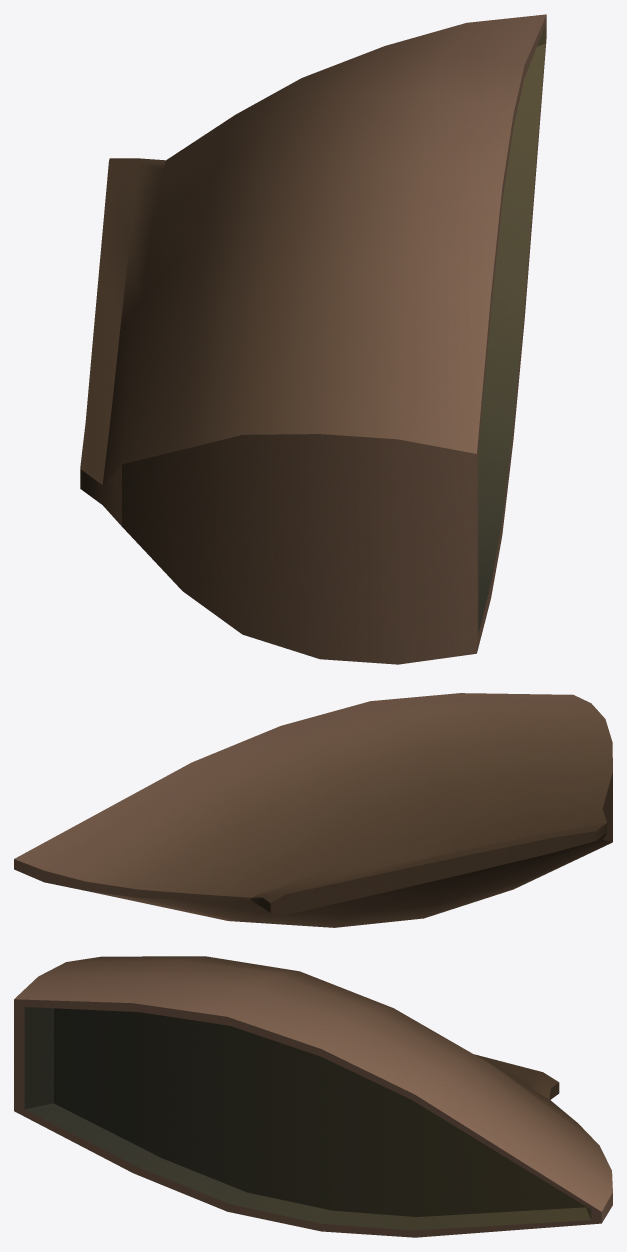
Rendered from epave.fbx.
3 renders of one model, top to bottom at view 1: azimuth 30°, elevation 25°; view 2: azimuth 150°, elevation 25°; view 3: azimuth 270°, elevation 25°, orthographic. The views are drawn at different scales.
Visible parts, largest first — view 1: epave; view 2: epave; view 3: epave.
Part boxes in pixels (x1,y1,x2,y2): epave: [80, 14, 546, 664]; epave: [14, 693, 612, 927]; epave: [14, 956, 612, 1237].
Bounding box in the file's own units: 23.22 × 10.66 × 26.38.
